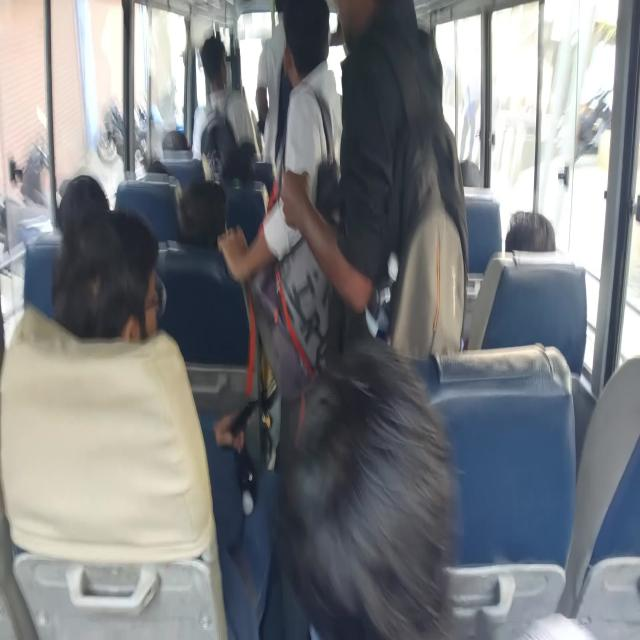person: (274, 360, 484, 628), (331, 1, 468, 329), (269, 1, 347, 275), (64, 229, 178, 344), (504, 201, 556, 274), (171, 187, 228, 248), (49, 184, 108, 238), (202, 31, 233, 94), (164, 121, 201, 167), (218, 150, 257, 192), (458, 148, 488, 193), (144, 154, 170, 192)
